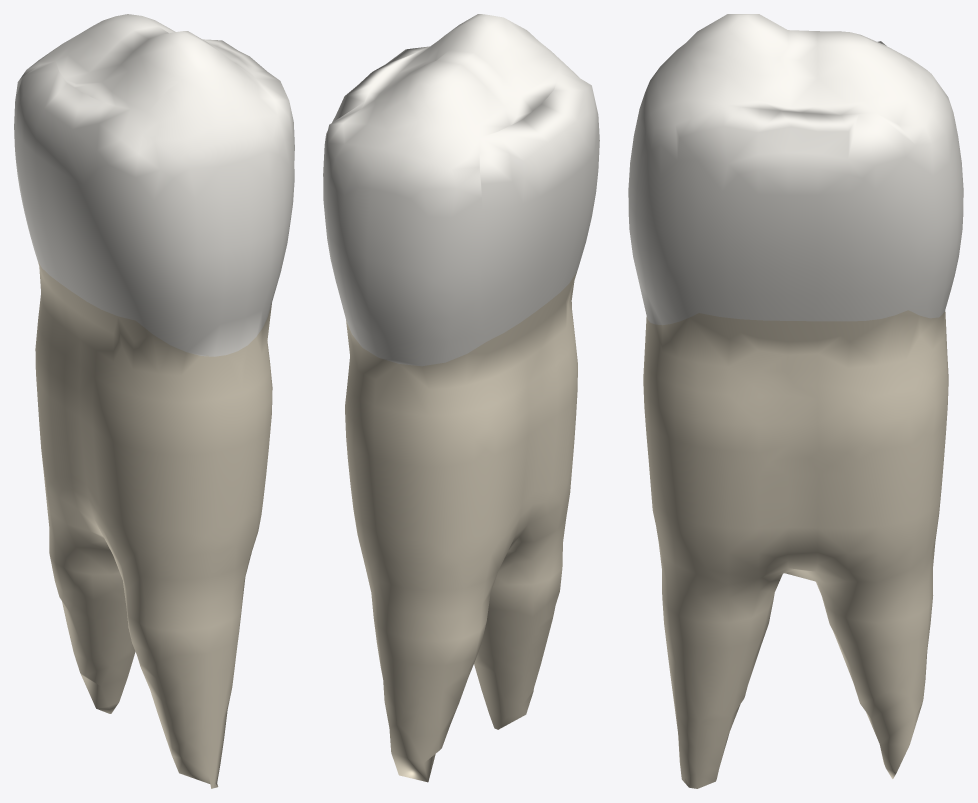
The picture shows the model from 3 angles, left to right: view 1: azimuth 30°, elevation 25°; view 2: azimuth 150°, elevation 25°; view 3: azimuth 270°, elevation 25°; orthographic projection. The views are drawn at different scales.
Parts seen in each view (by area): view 1: root, V, D, O, M; view 2: root, L, D, O, M; view 3: root, M, O, V, L.
Boxes of the visible parts, x1,y1,x2,y2 form: root: (35, 262, 272, 788); V: (133, 71, 294, 356); D: (14, 61, 147, 320); O: (55, 14, 257, 112); M: (203, 39, 294, 160); root: (345, 271, 577, 782); L: (324, 99, 486, 366); D: (479, 63, 599, 341); O: (361, 14, 559, 137); M: (323, 46, 429, 218); root: (643, 310, 948, 788); M: (677, 101, 922, 321); O: (695, 14, 887, 115); V: (628, 32, 705, 325); L: (875, 46, 963, 318).
Bounding box in the file's own units: 6.97 × 22.65 × 8.98.
